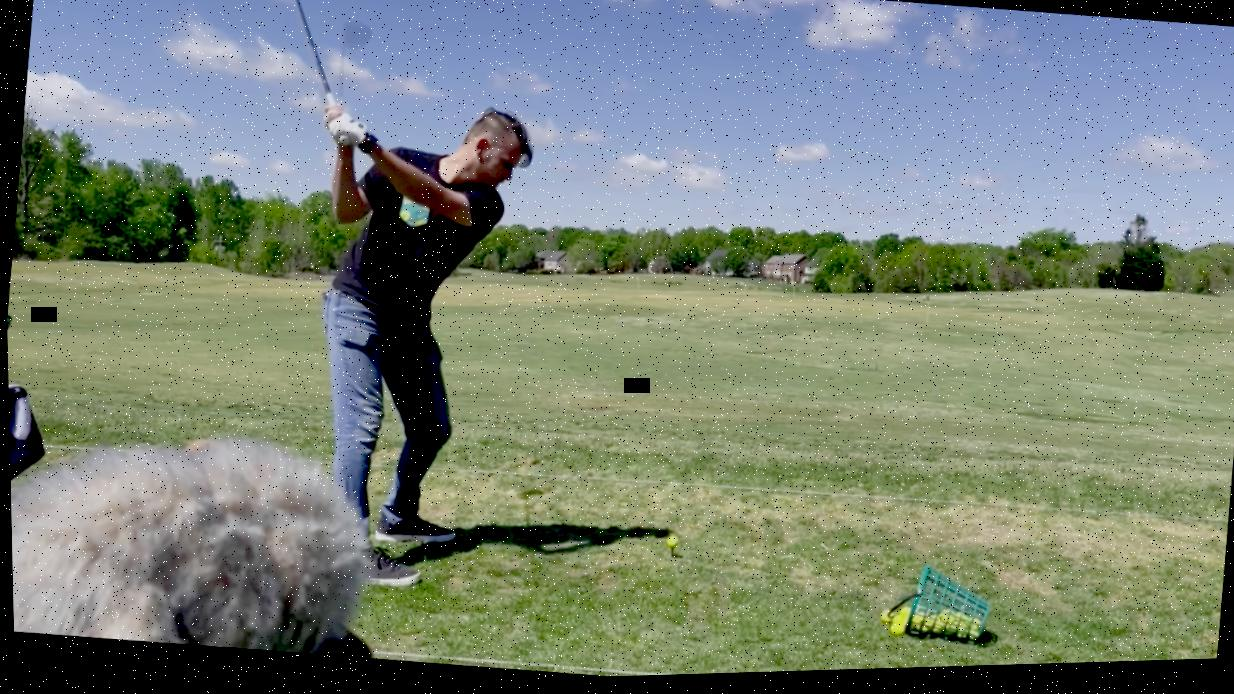ClubHead: (274, 0, 321, 9)
GolfBall: (660, 535, 679, 555)
